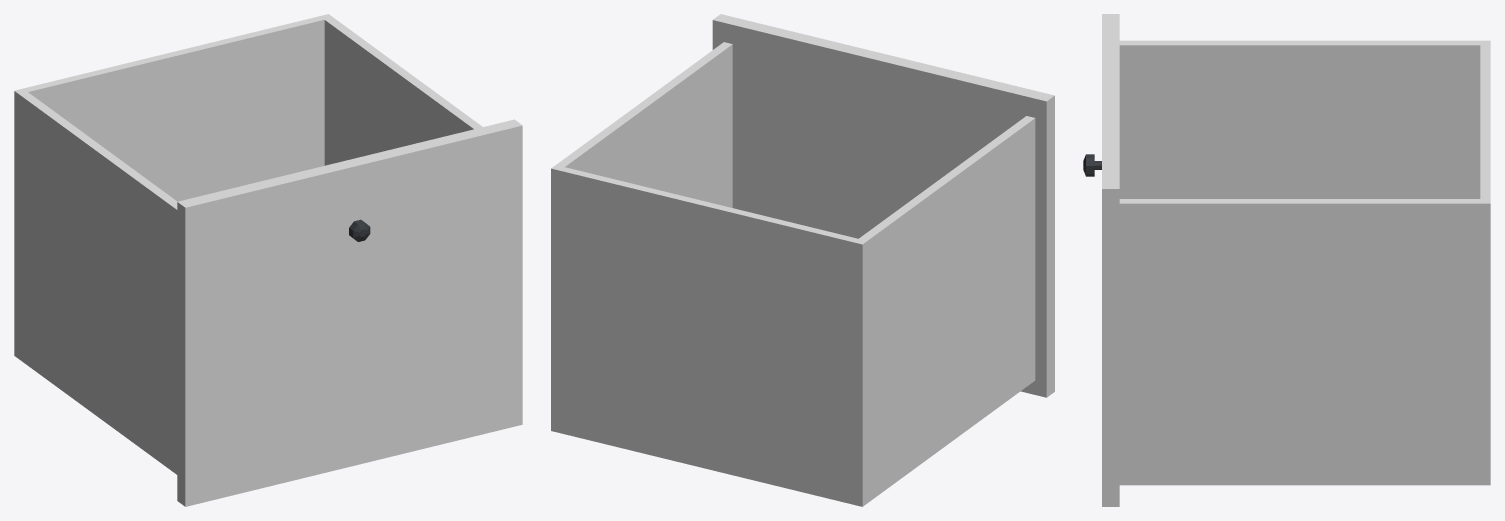
File: Door3_C1_06.fbx
3 views of the same model, side by side, from view 1: azimuth 30°, elevation 25°; view 2: azimuth 150°, elevation 25°; view 3: azimuth 270°, elevation 25° (orthographic). The views are drawn at different scales.
Visible parts, largest first — view 1: Door3_C1_06; view 2: Door3_C1_06; view 3: Door3_C1_06.
Boxes of the visible parts, left/top/right/bottom form: Door3_C1_06: left=14, top=14, right=522, bottom=506; Door3_C1_06: left=551, top=14, right=1054, bottom=506; Door3_C1_06: left=1083, top=14, right=1490, bottom=506.
Size of the model in its own units: 59 by 50 by 58.03.
